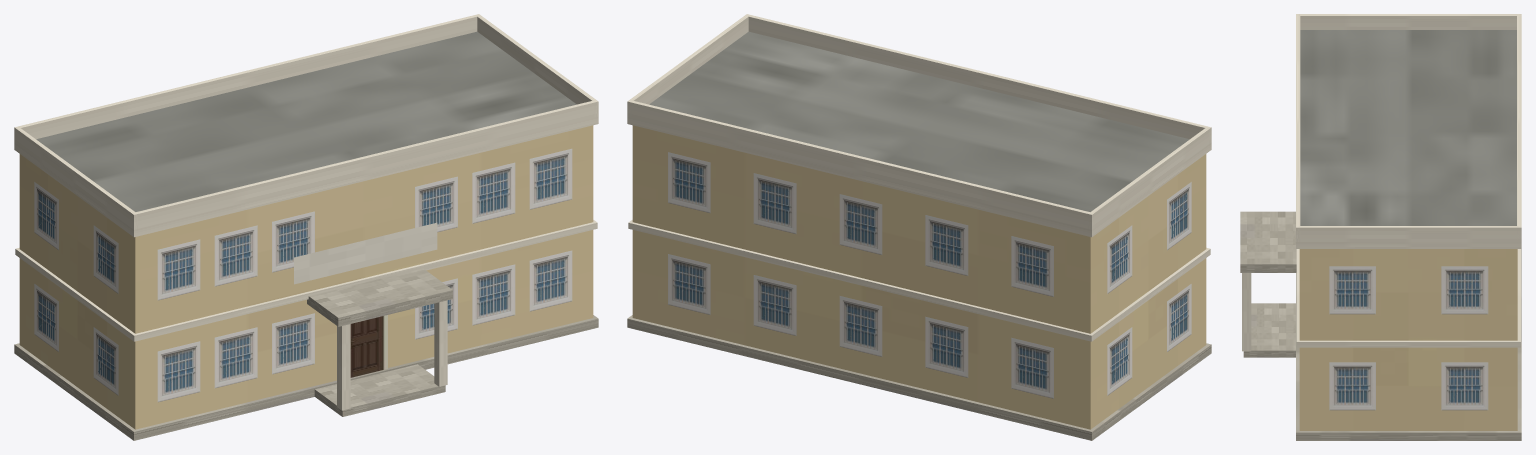
File: school-cream-far.glb
3 views of the same model, side by side, from view 1: azimuth 30°, elevation 25°; view 2: azimuth 150°, elevation 25°; view 3: azimuth 270°, elevation 25° (orthographic). The views are drawn at different scales.
Parts seen in each view (by area): view 1: school-cream-far, sign_1; view 2: school-cream-far; view 3: school-cream-far.
Part boxes in pixels (x1,y1,x2,y2): school-cream-far: [14, 14, 598, 440]; sign_1: [294, 222, 437, 284]; school-cream-far: [627, 14, 1211, 440]; school-cream-far: [1240, 14, 1521, 440].
Size of the model in its own units: 16.24 by 7.55 by 9.02.
Materials: 1 (1 with a texture image).
